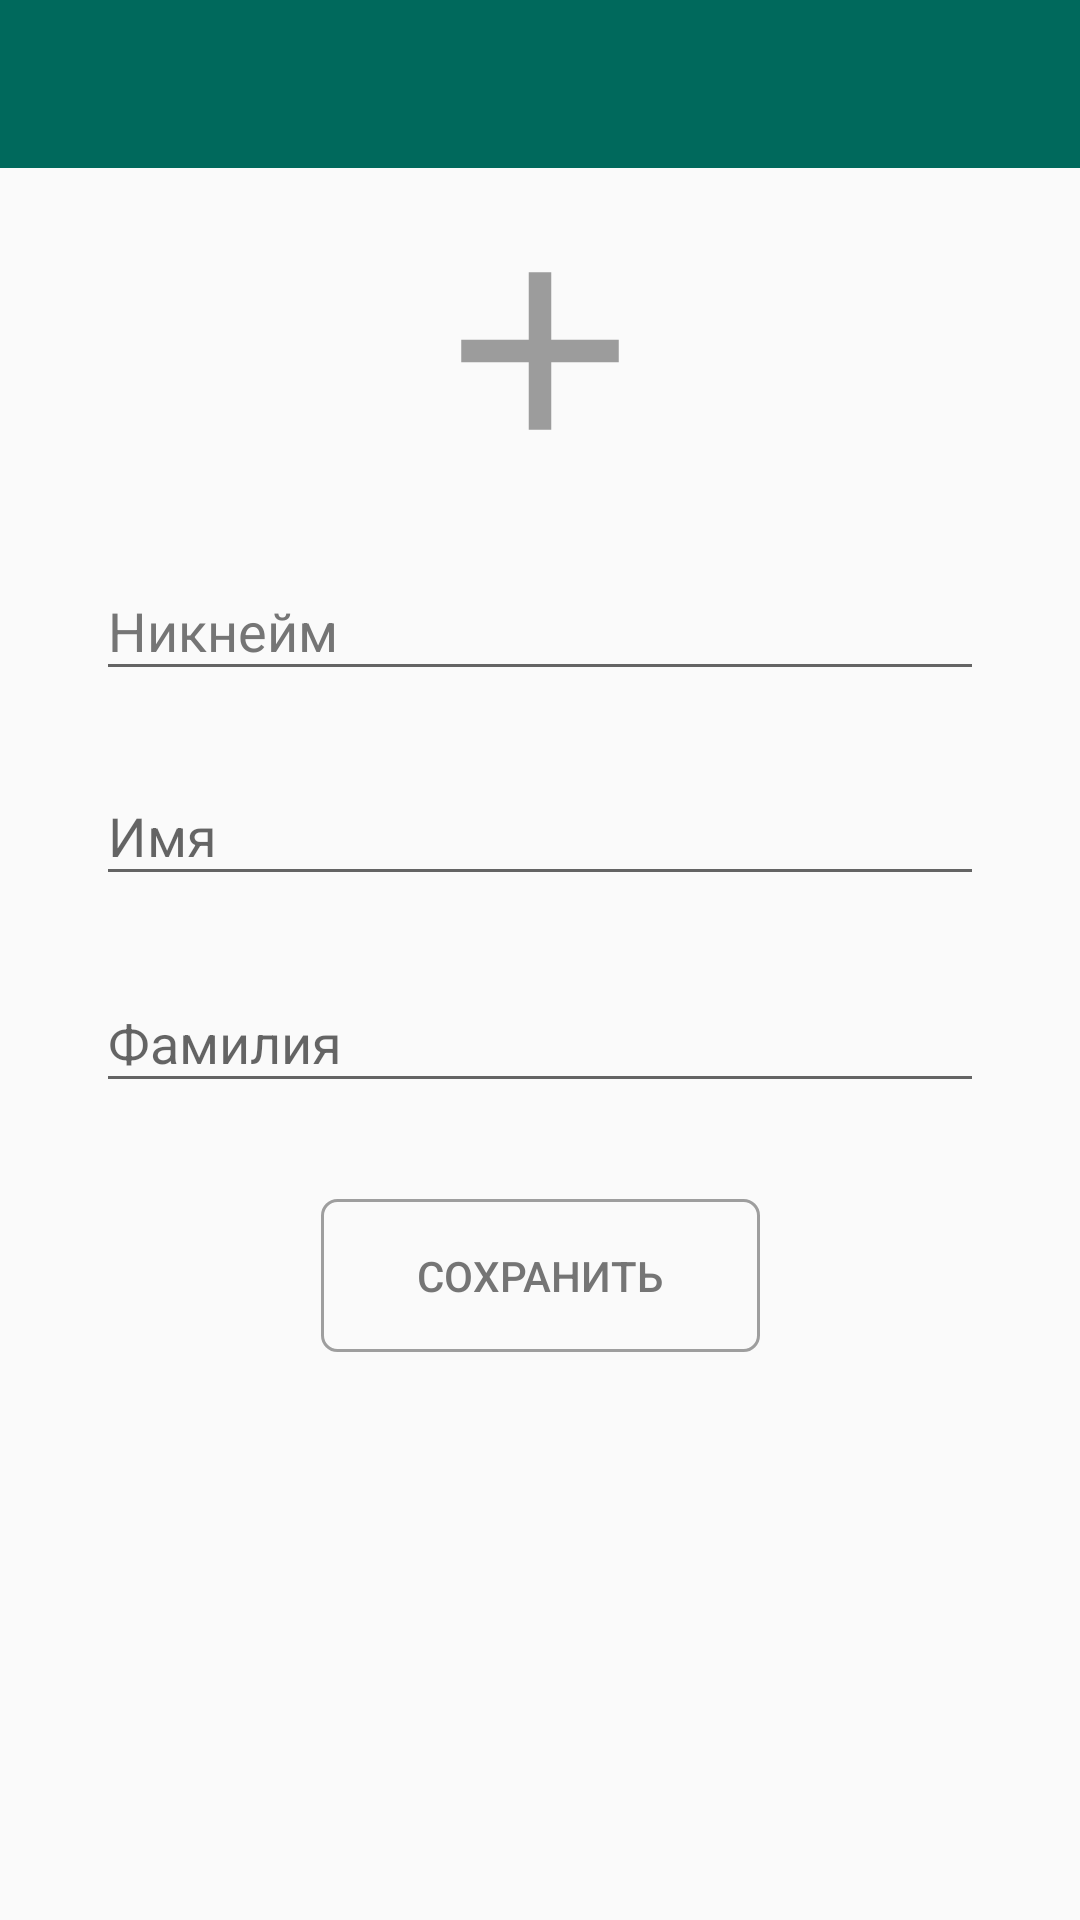

Icon bounding boxes for this 1080×1920 phone screenshot, format (x1, y1, x2, y2):
add: (461, 272, 619, 430)
